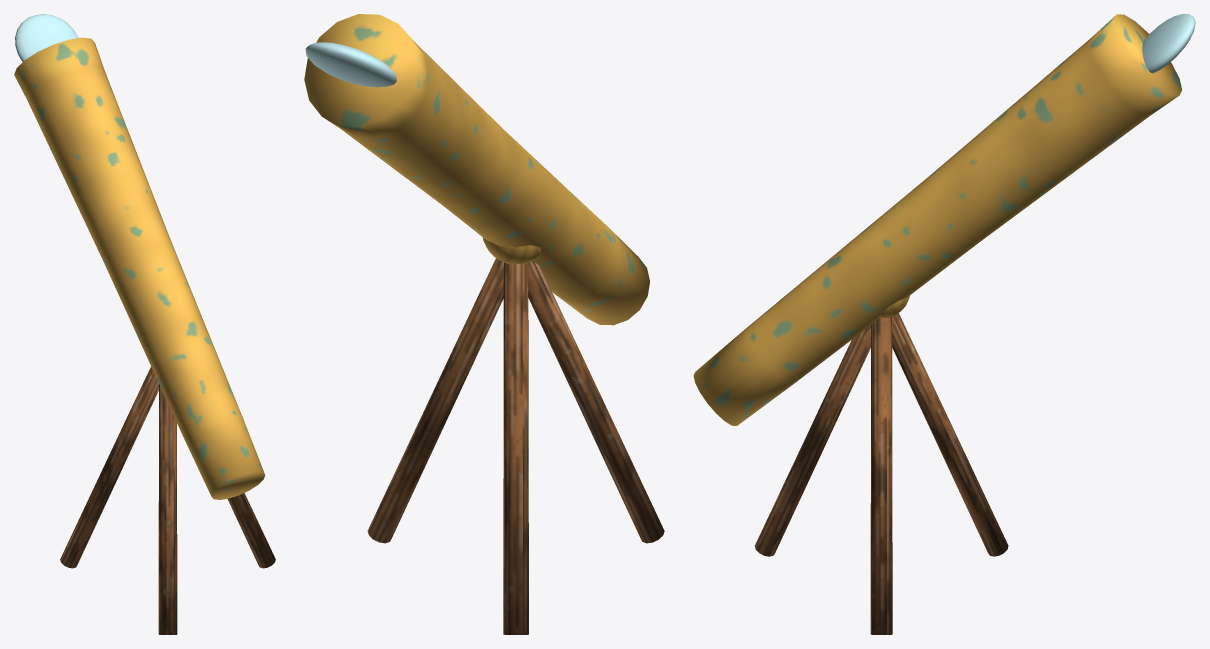
The model's file is telescope.glb.
The picture shows the model from 3 angles, left to right: view 1: azimuth 30°, elevation 25°; view 2: azimuth 150°, elevation 25°; view 3: azimuth 270°, elevation 25°; orthographic projection. The views are drawn at different scales.
Parts seen in each view (by area): view 1: Telescope; view 2: Telescope; view 3: Telescope.
Part boxes in pixels (bbox=[...]): Telescope: bbox=[14, 14, 275, 634]; Telescope: bbox=[304, 14, 664, 634]; Telescope: bbox=[693, 14, 1195, 634].
Bounding box in the file's own units: 0.9103 × 2.54 × 2.05.
1 material, 1 textured.
